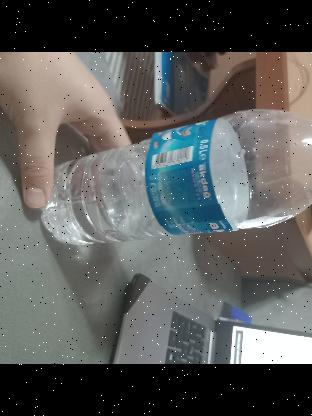Plastic Bottle: (28, 107, 312, 244)
